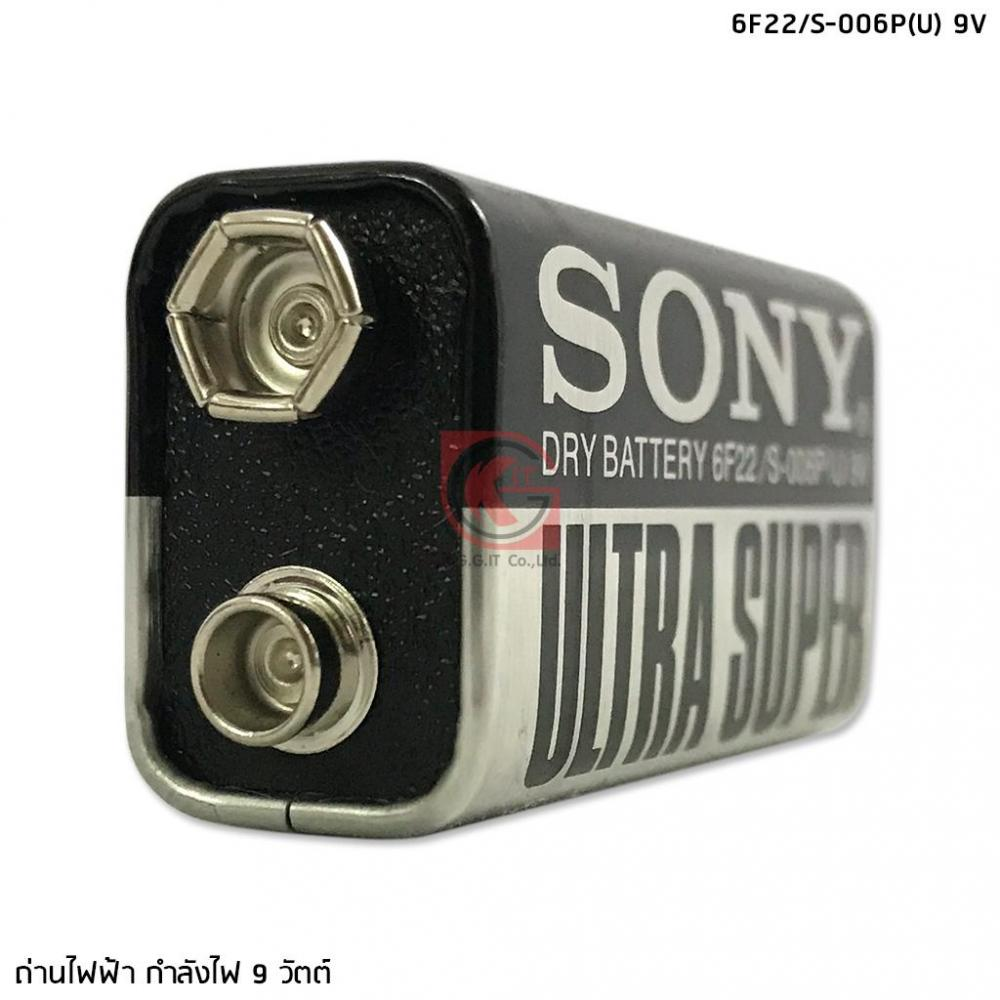Battery: (108, 151, 896, 851)
